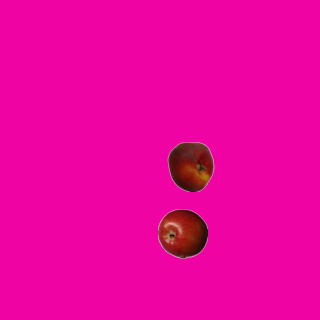Apple Braeburn: (157, 208, 207, 258)
Nectarine Flat: (165, 141, 215, 191)
